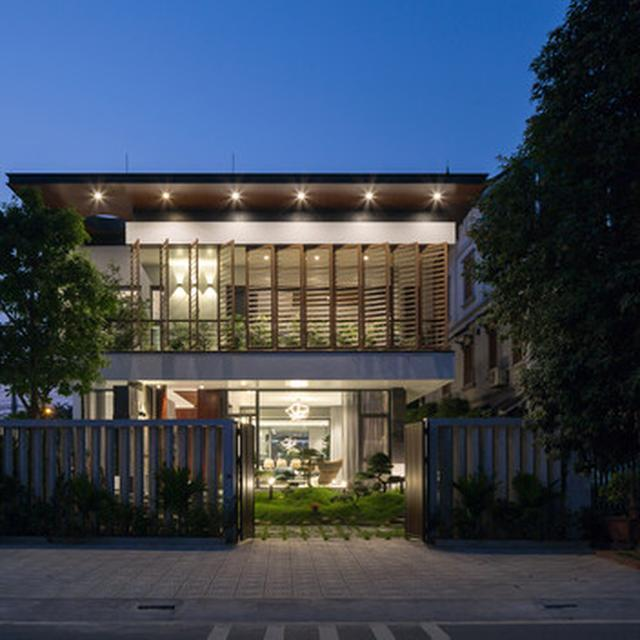building: (4, 171, 488, 497)
